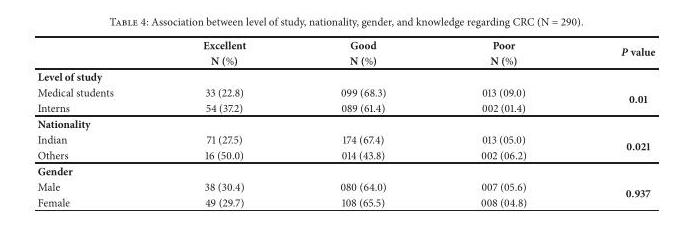table: (36, 36, 654, 209)
table column: (432, 36, 573, 209), (292, 36, 432, 209), (157, 36, 292, 209), (36, 36, 157, 209), (573, 36, 654, 209)
table column header: (36, 36, 654, 68)
table projected row header: (36, 68, 654, 84), (36, 115, 654, 131), (36, 162, 654, 178)
table row: (36, 36, 654, 52), (36, 52, 654, 68), (36, 68, 654, 84), (36, 99, 654, 115), (36, 115, 654, 131), (36, 146, 654, 162), (36, 162, 654, 178), (36, 178, 654, 194), (36, 84, 654, 99), (36, 131, 654, 146), (36, 194, 654, 209)
table spanning cell: (432, 36, 573, 68), (292, 36, 432, 68), (157, 36, 292, 68), (573, 36, 654, 68), (573, 84, 654, 115), (573, 131, 654, 162), (573, 178, 654, 209)
